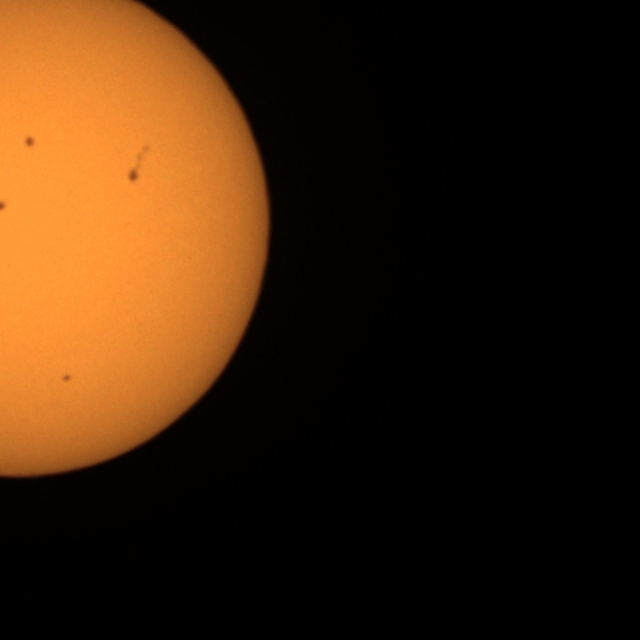sunspot: (126, 143, 152, 185), (125, 165, 142, 184), (23, 134, 37, 150), (61, 372, 74, 384), (0, 198, 8, 214)
